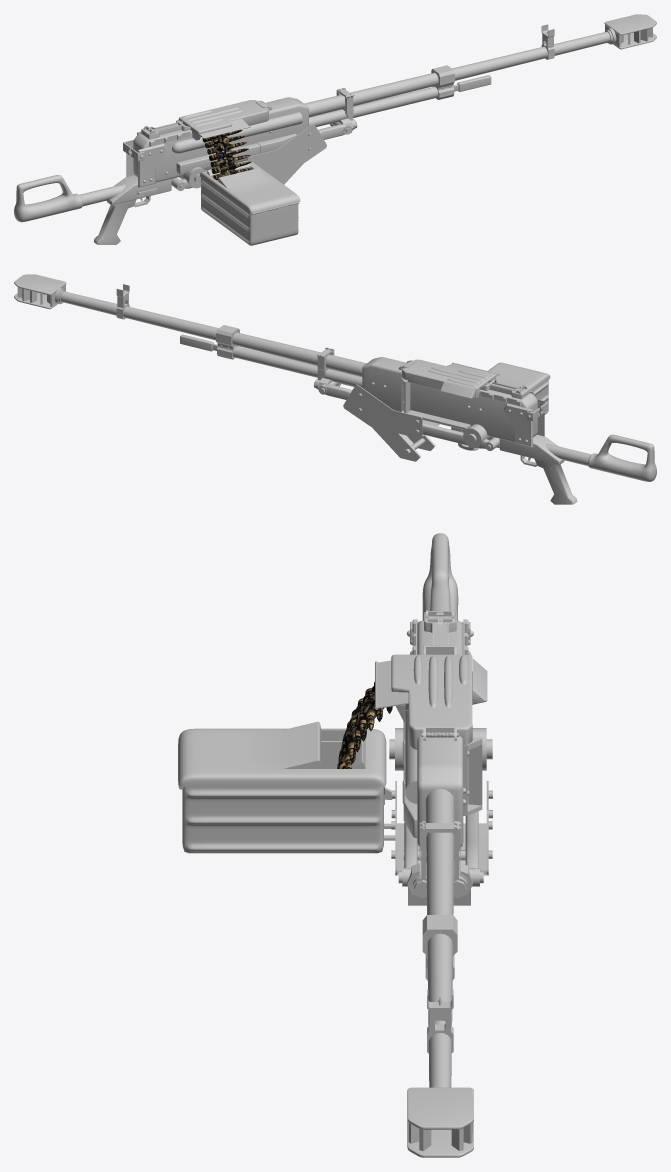
Rendered from meragun.gltf.
3 renders of one model, top to bottom at view 1: azimuth 30°, elevation 25°; view 2: azimuth 150°, elevation 25°; view 3: azimuth 270°, elevation 25°, orthographic. The views are drawn at different scales.
Parts seen in each view (by area): view 1: Kord Machine Gun; view 2: Kord Machine Gun; view 3: Kord Machine Gun.
Boxes of the visible parts, x1,y1,x2,y2 form: Kord Machine Gun: (14, 14, 656, 245); Kord Machine Gun: (14, 274, 656, 504); Kord Machine Gun: (178, 533, 492, 1157).
Bounding box in the file's own units: 165 × 27.32 × 35.36.
2 materials, 1 textured.
